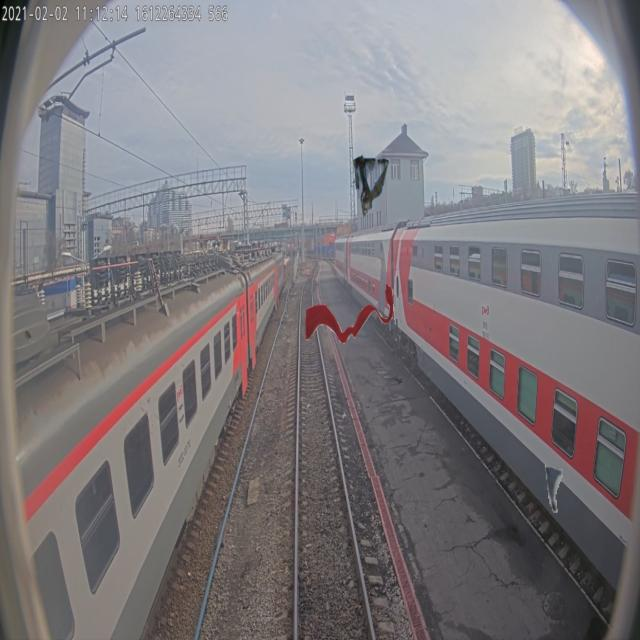floating object: (304, 281, 394, 345), (352, 154, 390, 218), (544, 450, 562, 514)
